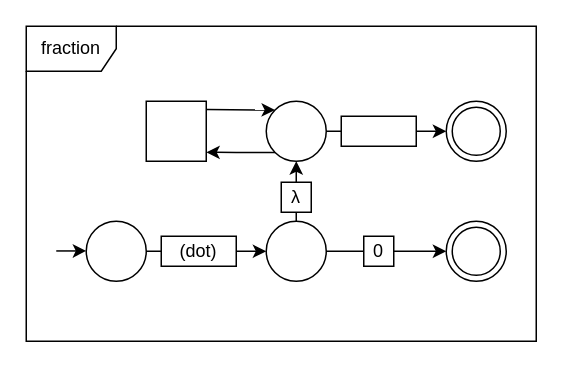
Some shapes in this 563 by 368 pixel diagram are drawn without their labels. Here are the shapes that lost their labels. From the top down, the centre of each, then its label:
At (x=175, y=130): "digit".
At (x=378, y=130): "nonzero".
